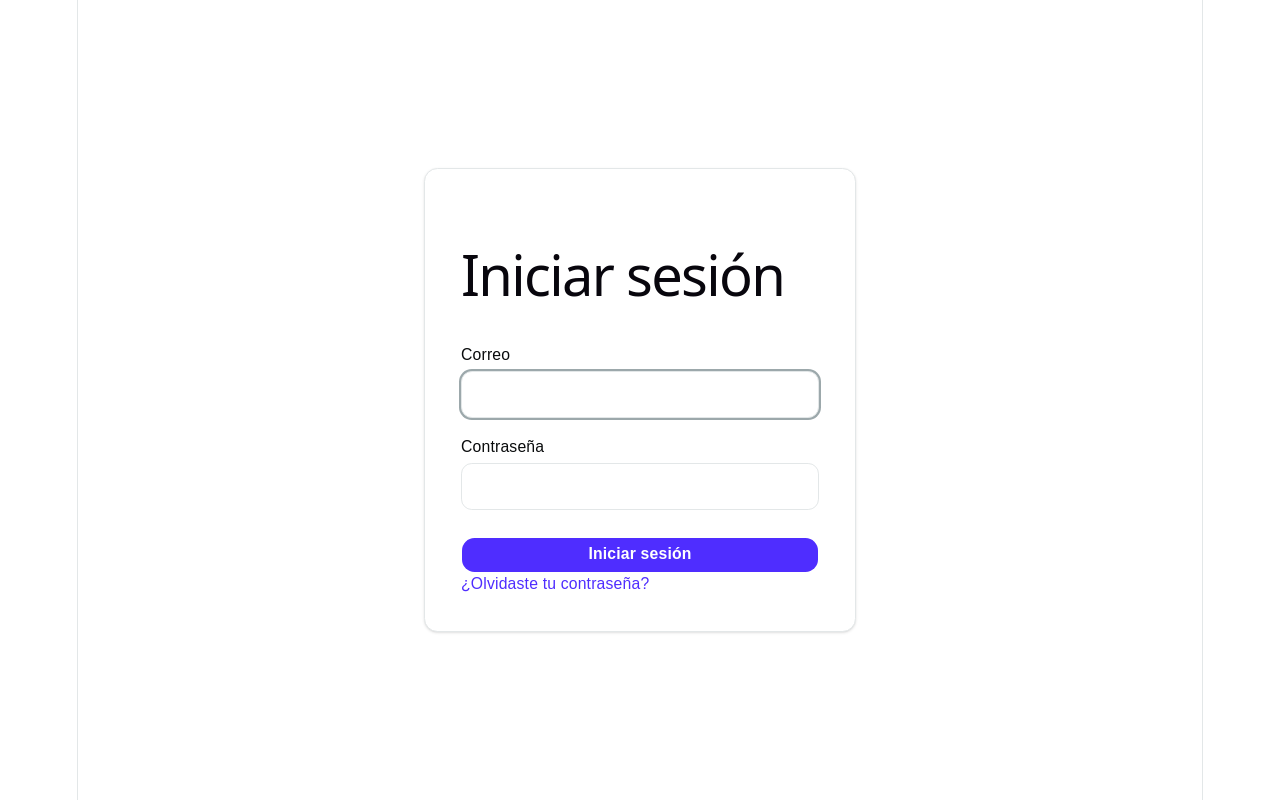
Test case: LoginPage — flujo de éxito › si /me falla tras el login, limpia la sesión y no redirige
Type "ana@example.com" into the field labelled "Correo" at (640, 394), box [461, 371, 819, 418]
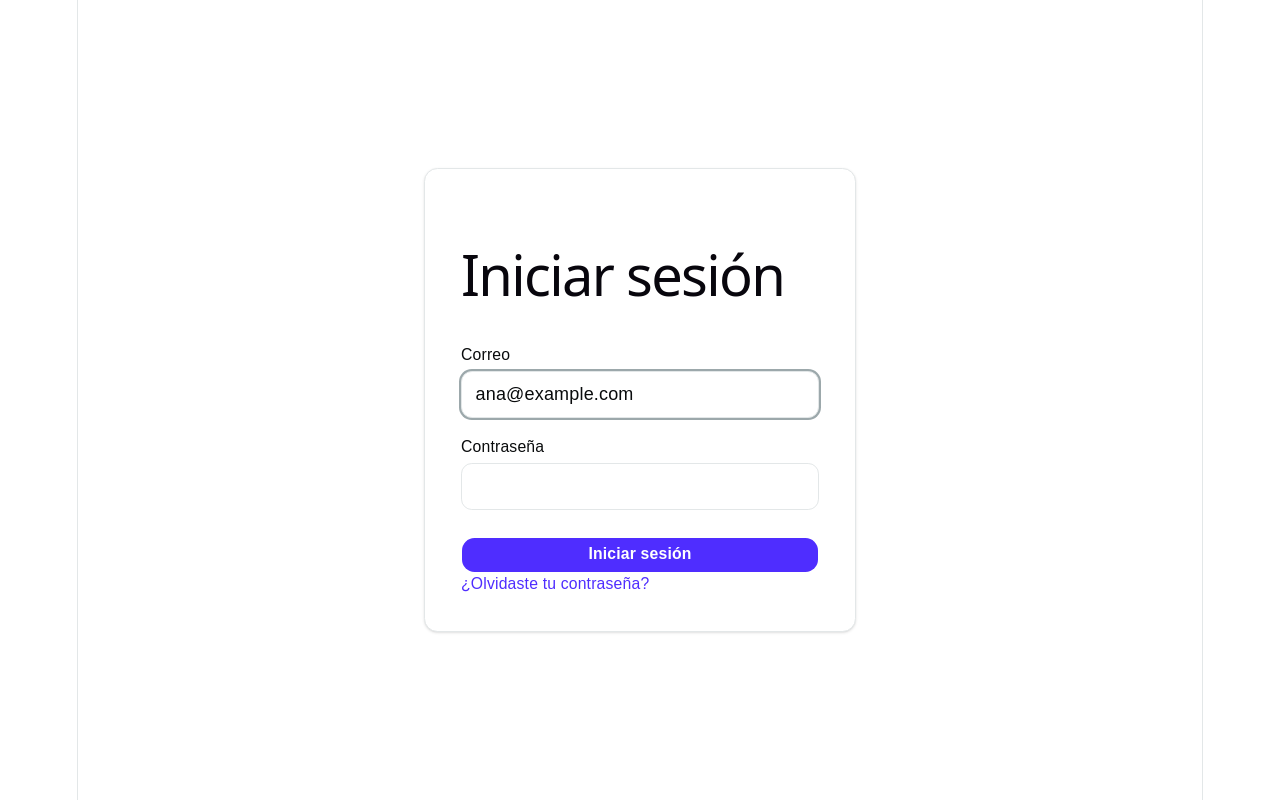
Type "secreto123" into the password field labelled "Contraseña" at (640, 486), box [461, 463, 819, 510]
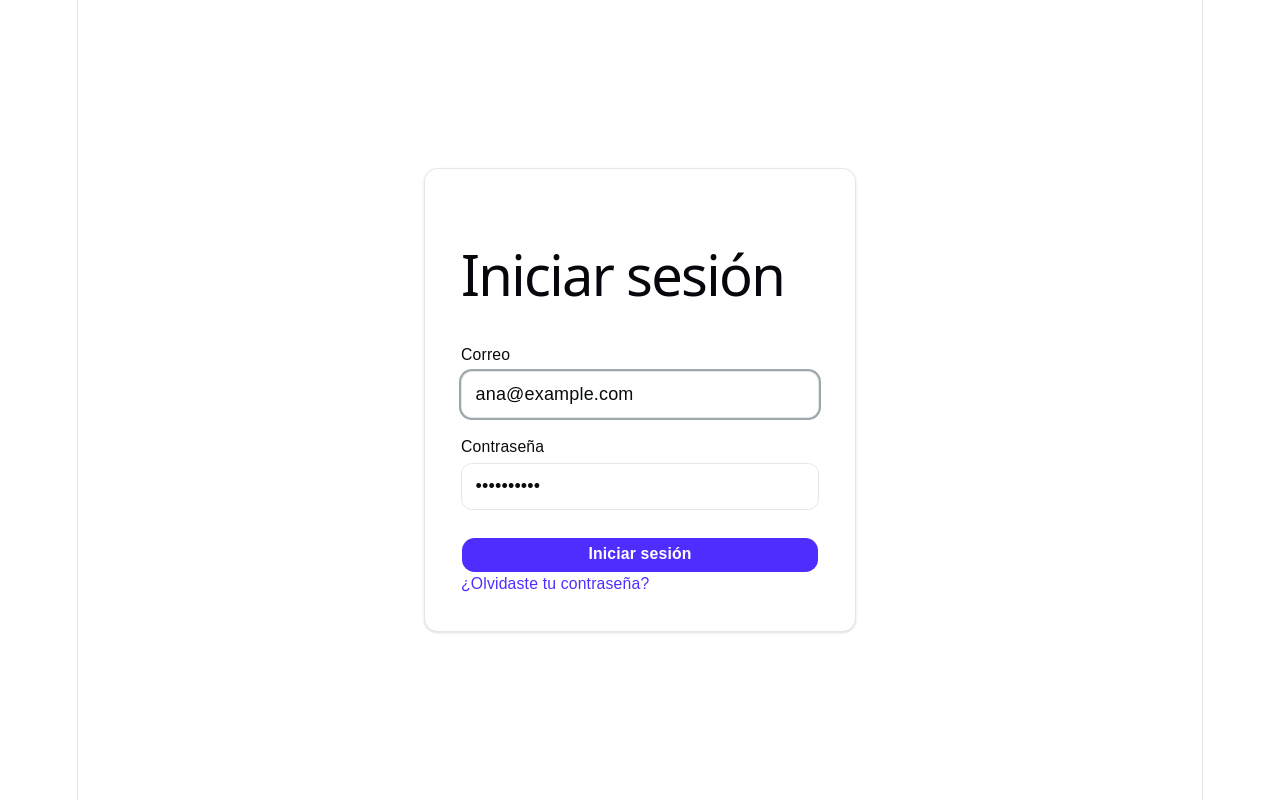
Click the button "Iniciar sesión" at (640, 555), box [461, 537, 819, 573]
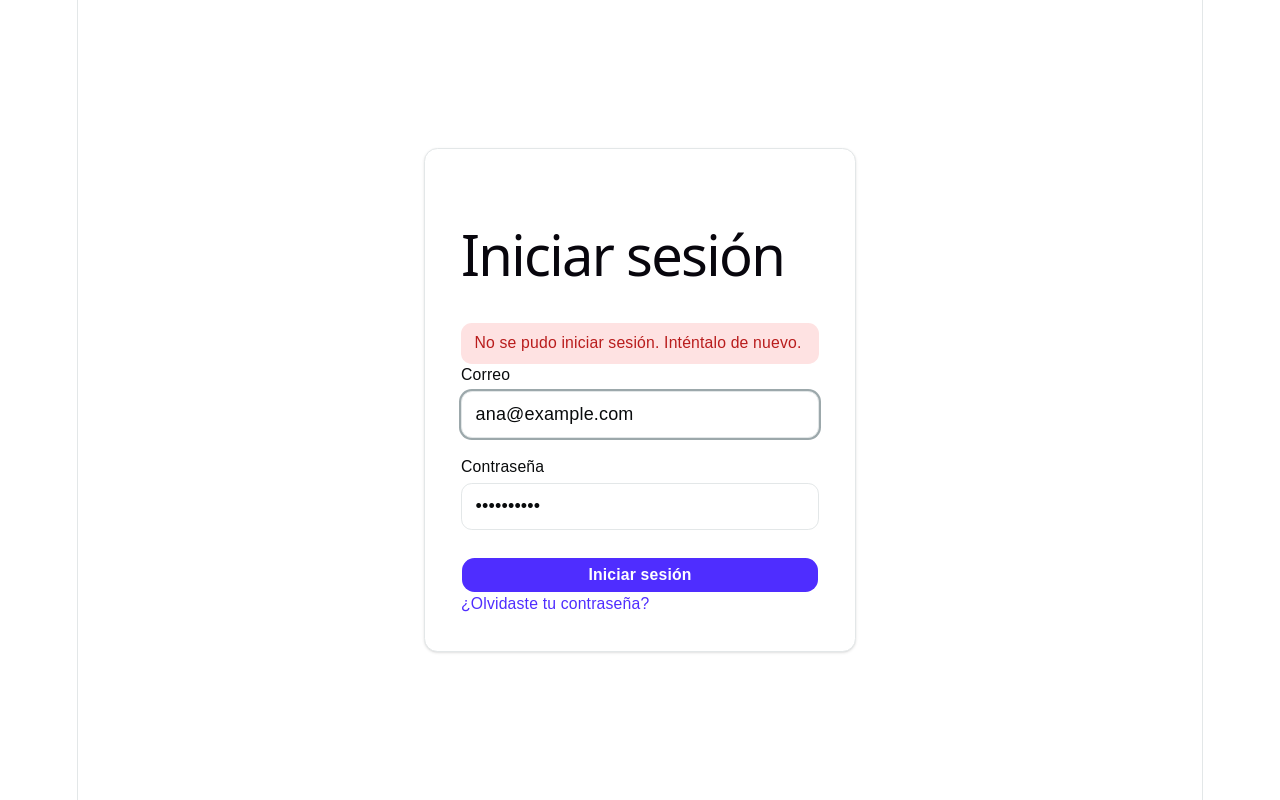
Now the message "No se pudo iniciar sesión. Inténtalo de nuevo." is shown, box [461, 323, 819, 364]
